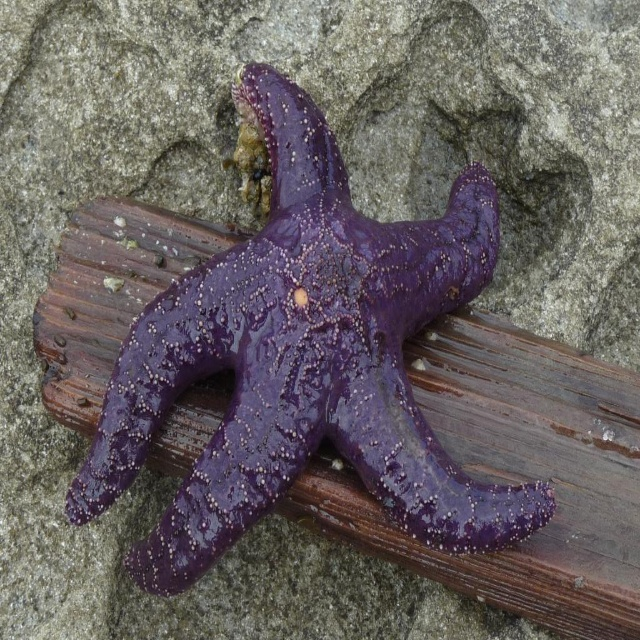Fish: (59, 60, 558, 594)
